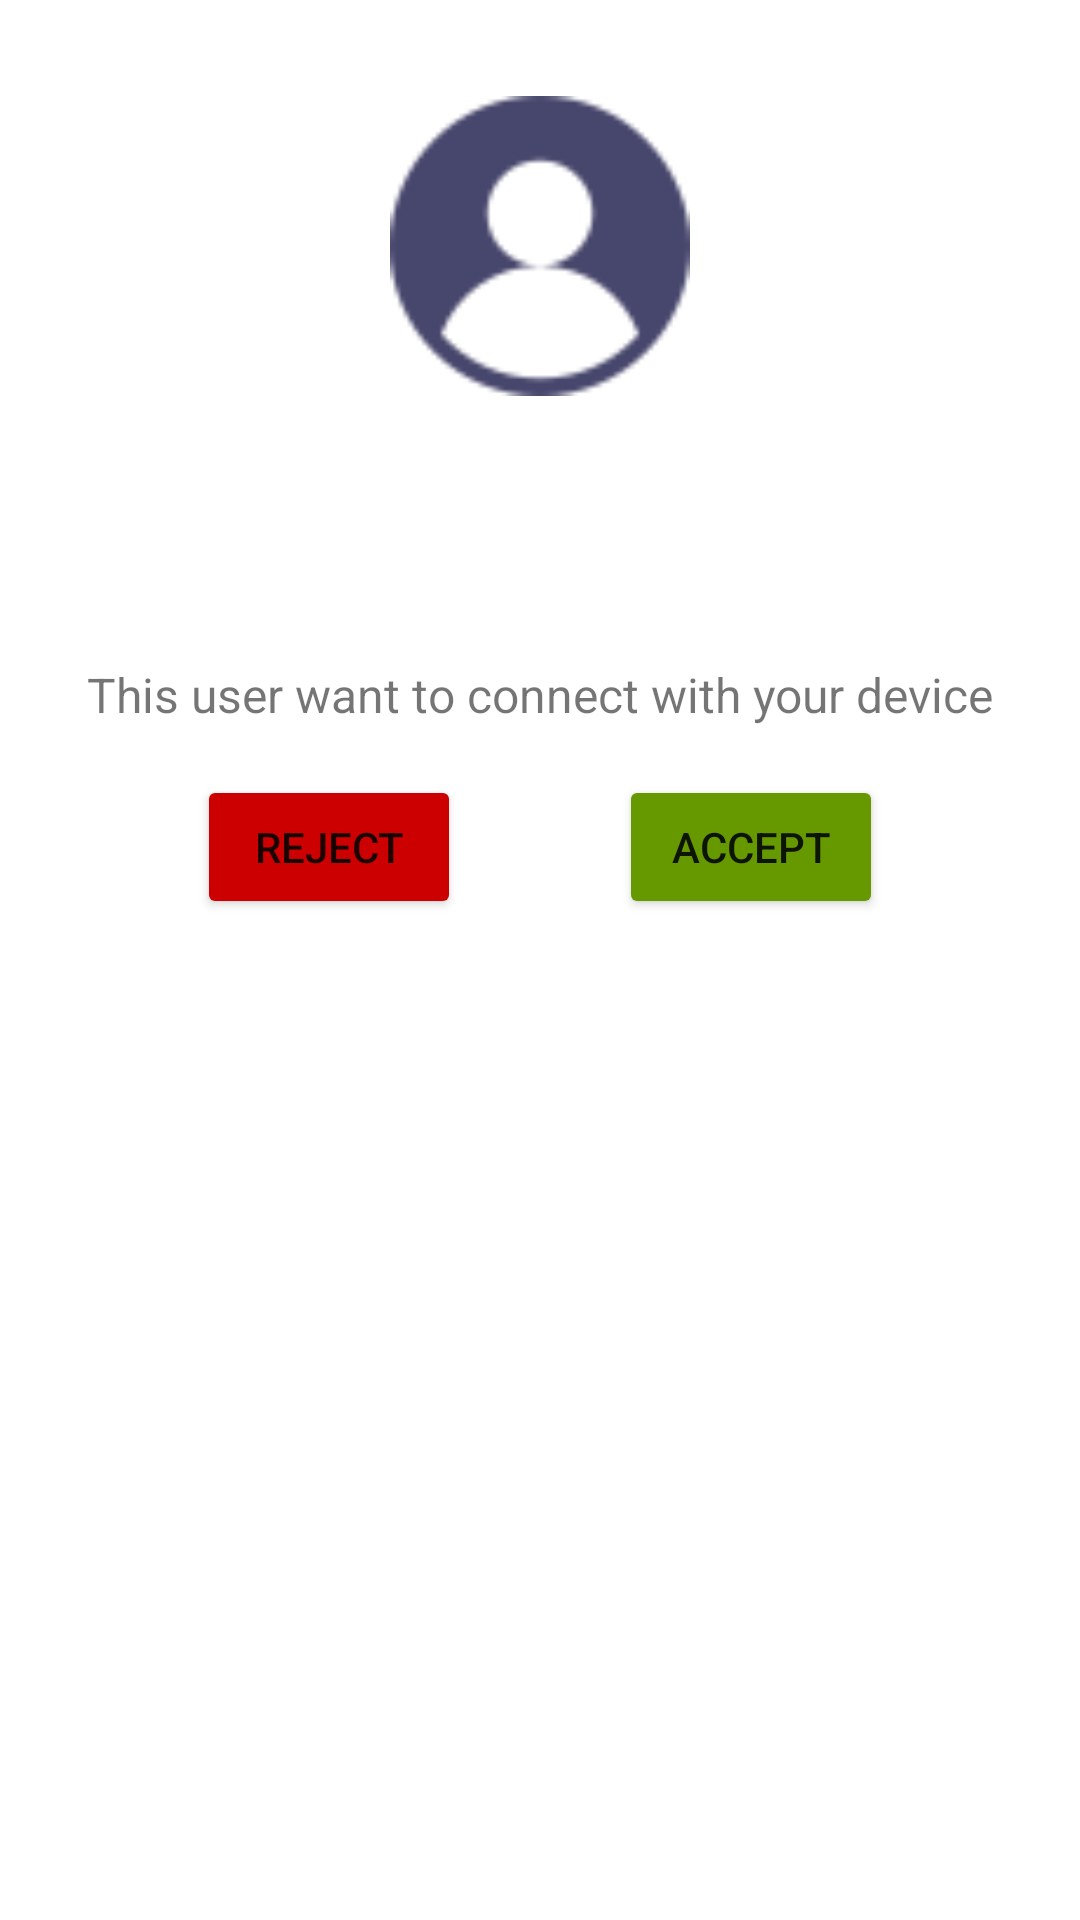

Locate icon controls on the screen. Image size 1080 x 1920, boxes as bbox=[x1, y1, x2, y2].
user: bbox=[390, 96, 690, 396]
